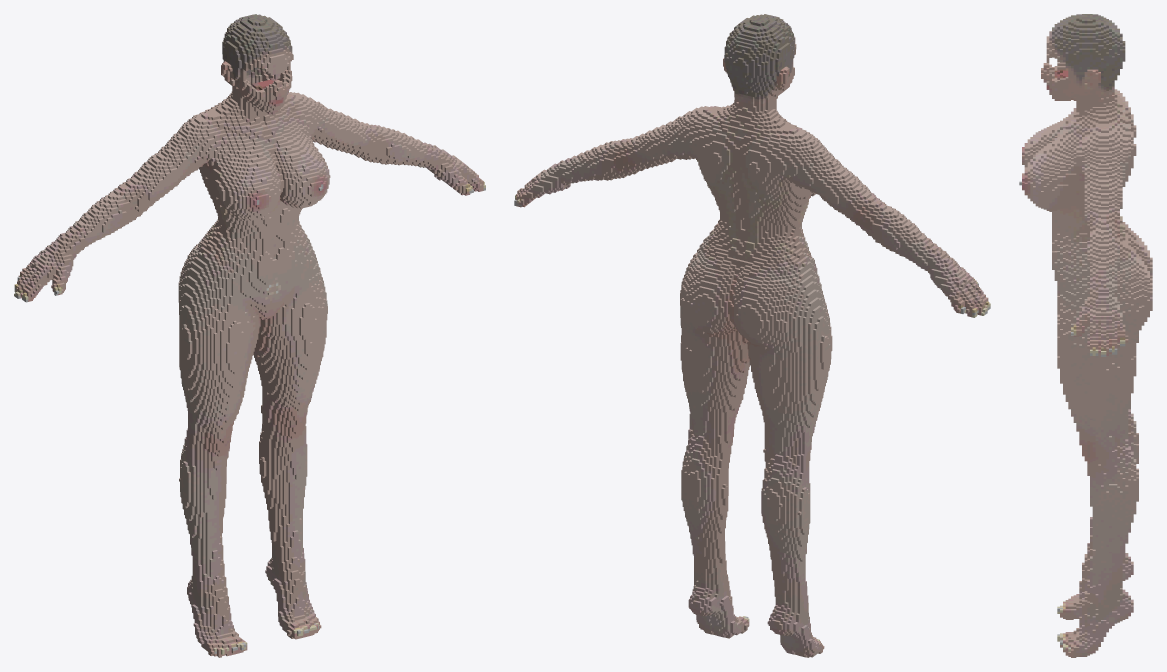
The picture shows the model from 3 angles, left to right: view 1: azimuth 30°, elevation 25°; view 2: azimuth 150°, elevation 25°; view 3: azimuth 270°, elevation 25°; orthographic projection.
Visible parts, largest first — view 1: VoxelMesh; view 2: VoxelMesh; view 3: VoxelMesh.
Part boxes in pixels (bbox=[...]): VoxelMesh: bbox=[14, 14, 485, 657]; VoxelMesh: bbox=[514, 14, 990, 657]; VoxelMesh: bbox=[1019, 14, 1152, 657].
Bounding box in the file's own units: 1.35 × 1.72 × 0.3368.
